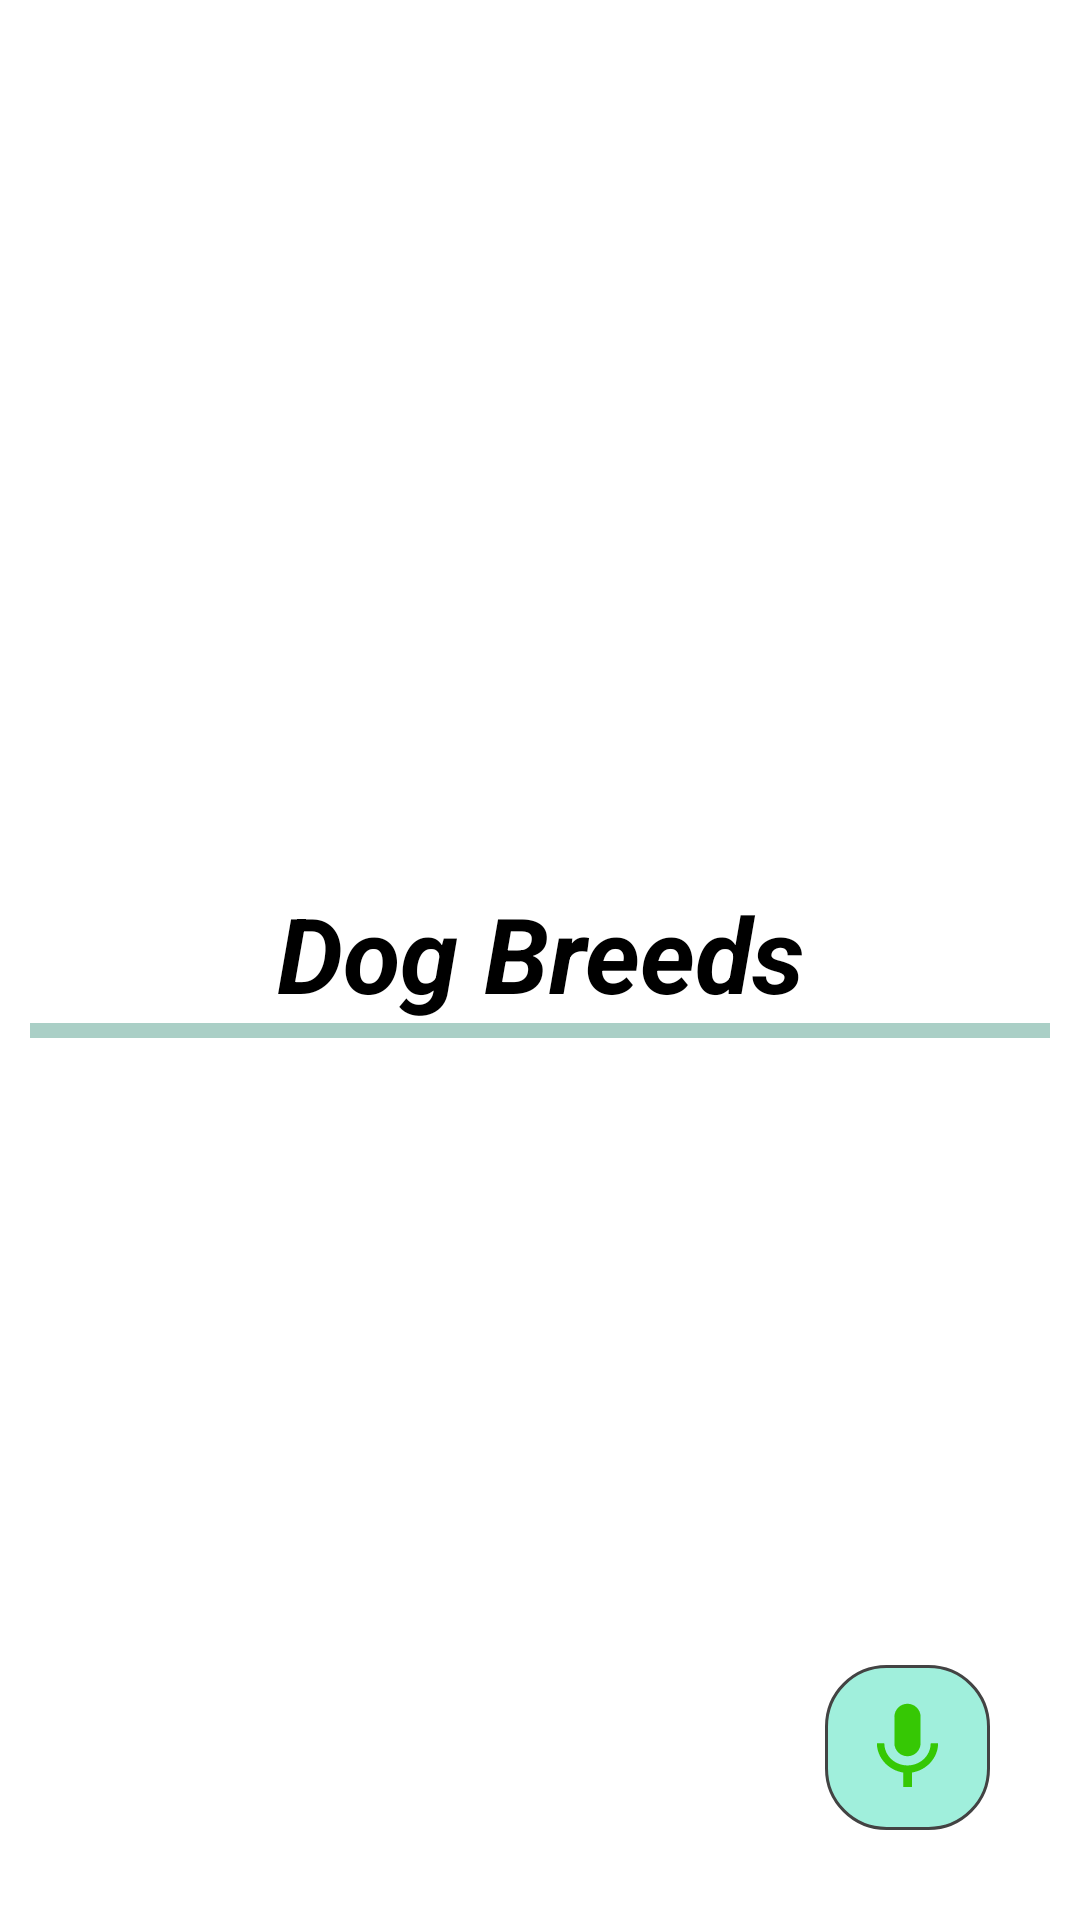

Where icons sit on this 1080px x 1920px app screen, as [left=x1, top=y1, right=x2, bottom=y2]:
mic: [left=825, top=1665, right=990, bottom=1830]
